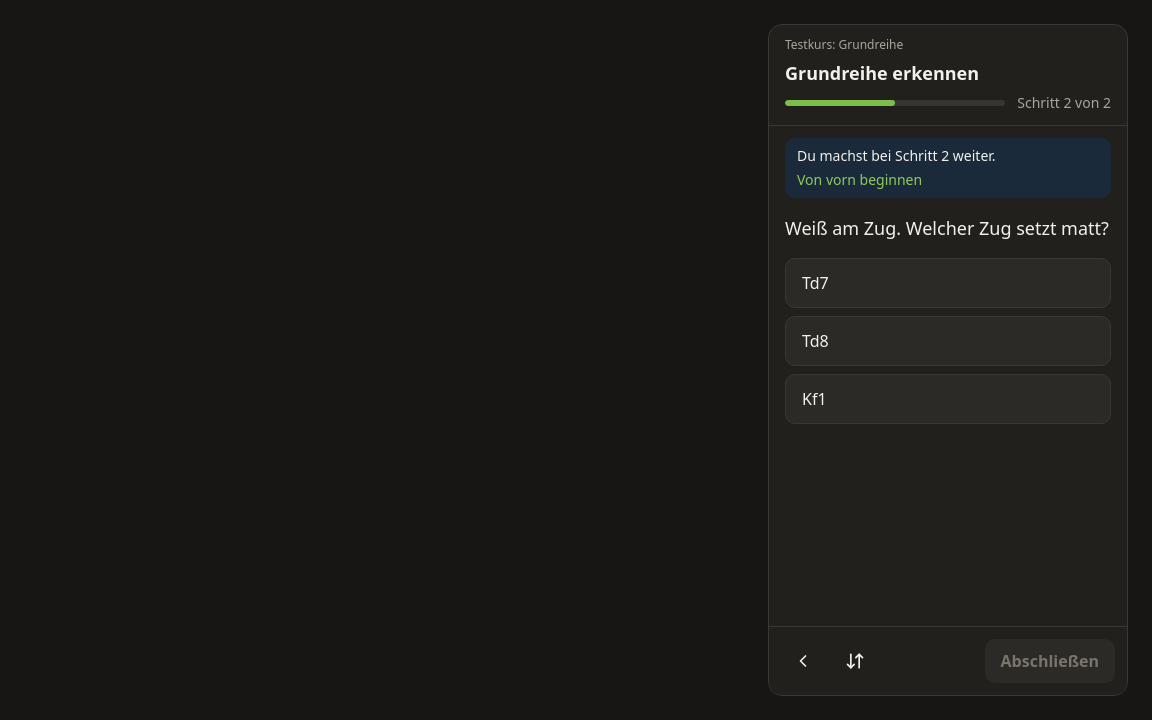
Test: practice bot without a bot rating › uses the stage range (Stufe 1 → 400–800)
Click the button "Td8" at (815, 341), box [785,316,1111,366]
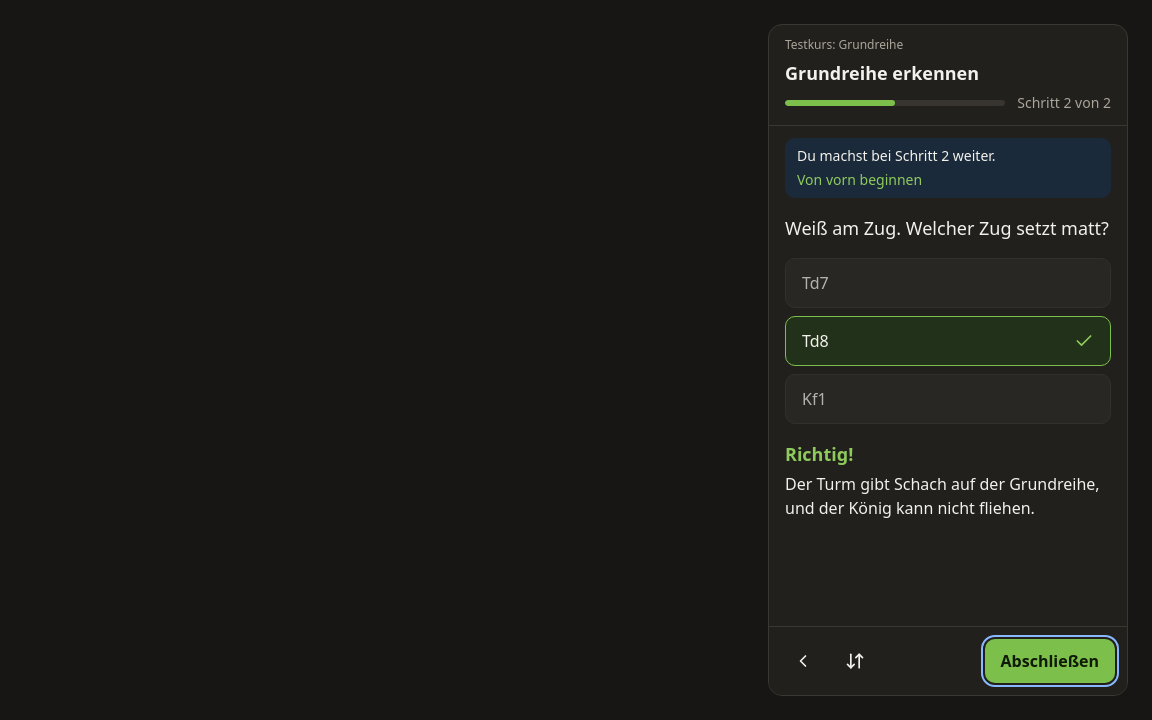
Click the button with test id "lesson-next" at (1050, 661), box [985,639,1115,683]
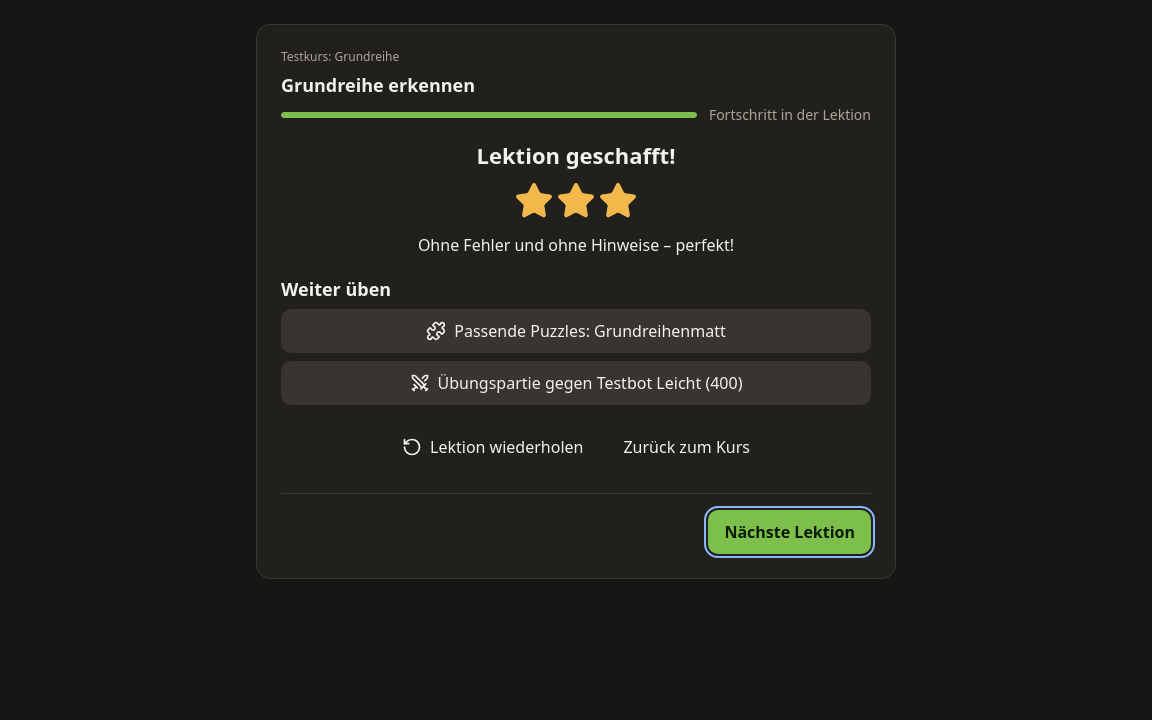
Expected: the element with test id "lesson-end" is shown, [281,141,871,469]
